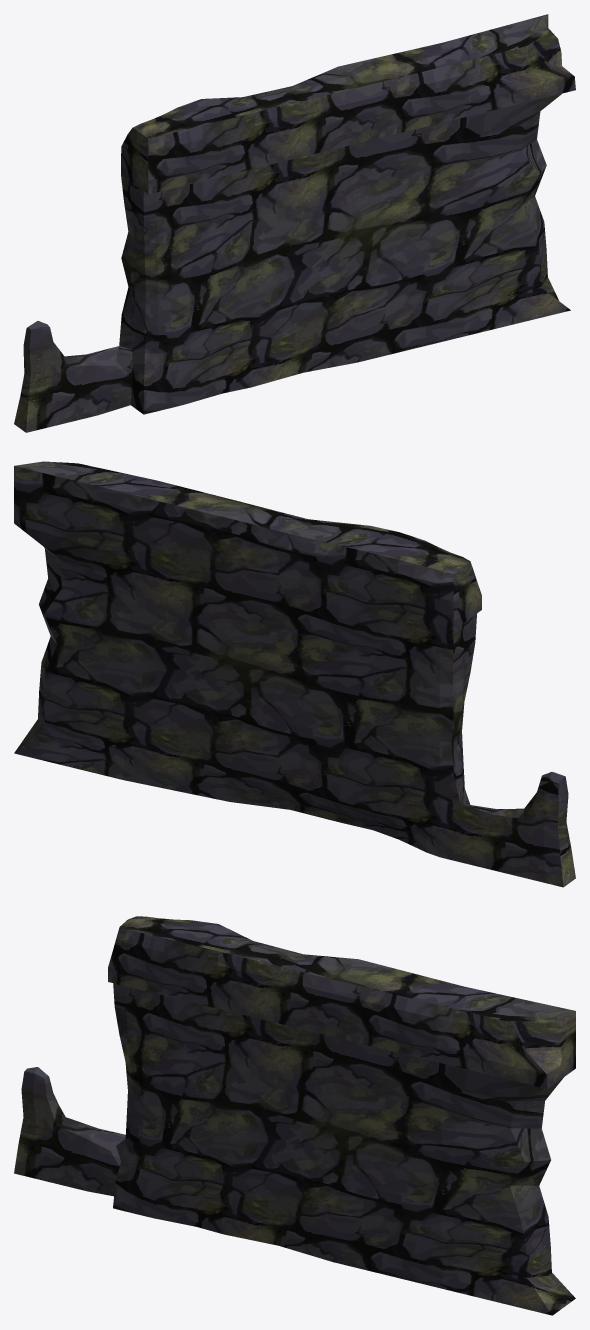
File: Ruins_02.fbx
3 renders of one model, top to bottom at view 1: azimuth 30°, elevation 25°; view 2: azimuth 150°, elevation 25°; view 3: azimuth 330°, elevation 25°, orthographic. The views are drawn at different scales.
Parts seen in each view (by area): view 1: Ruins_02; view 2: Ruins_02; view 3: Ruins_02.
Boxes of the visible parts, x1=… form: Ruins_02: x1=14, y1=14, x2=575, y2=432; Ruins_02: x1=14, y1=461, x2=575, y2=887; Ruins_02: x1=14, y1=916, x2=575, y2=1315.
Bounding box in the file's own units: 1.25 × 0.6251 × 0.1118.
Materials: 1 (1 with a texture image).
